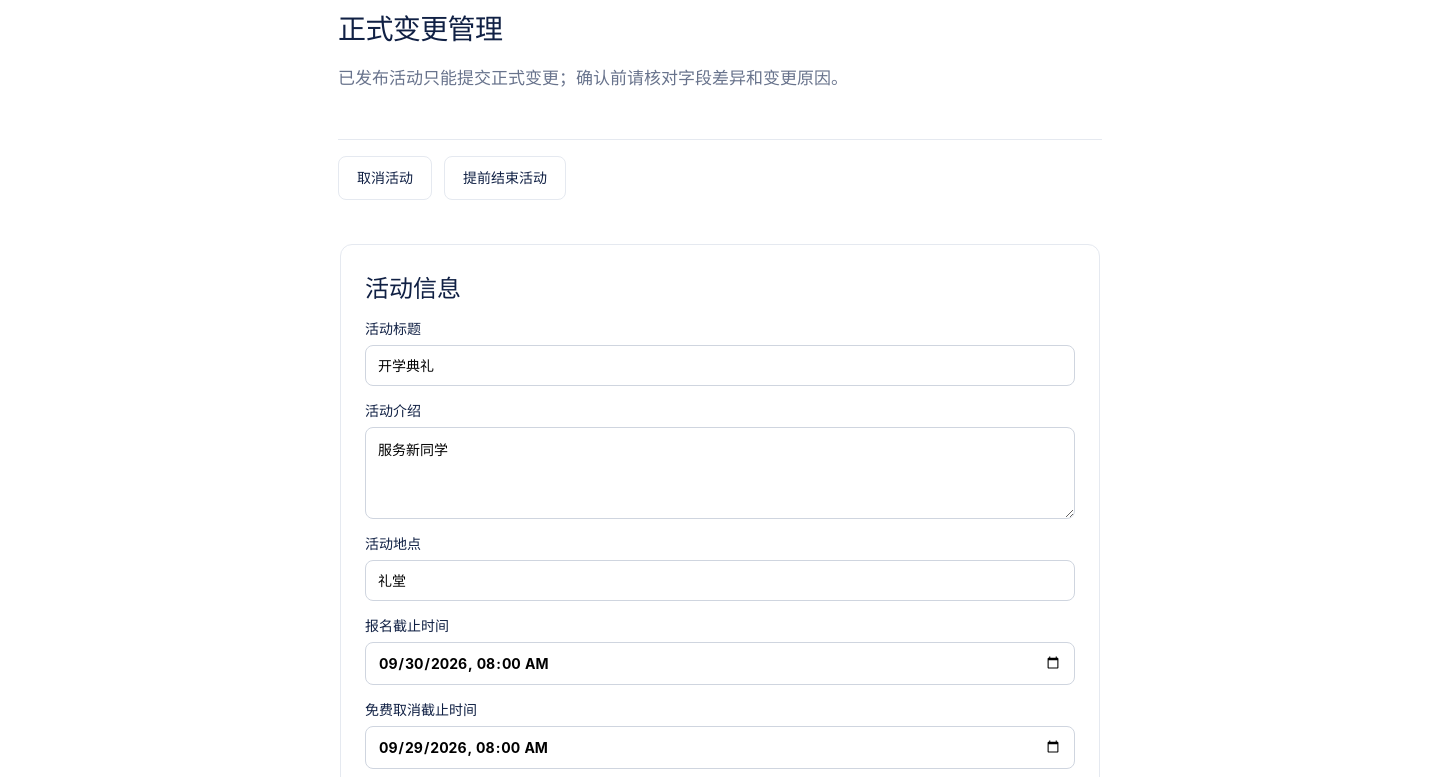
PublishedActivityManagementView › summarizes only actually changed allowed activity fields
Replace the text in the field with test id "activity-title" with "迎新典礼". click: (720, 365)
box: [365,345,1075,386]
(page scrolled)
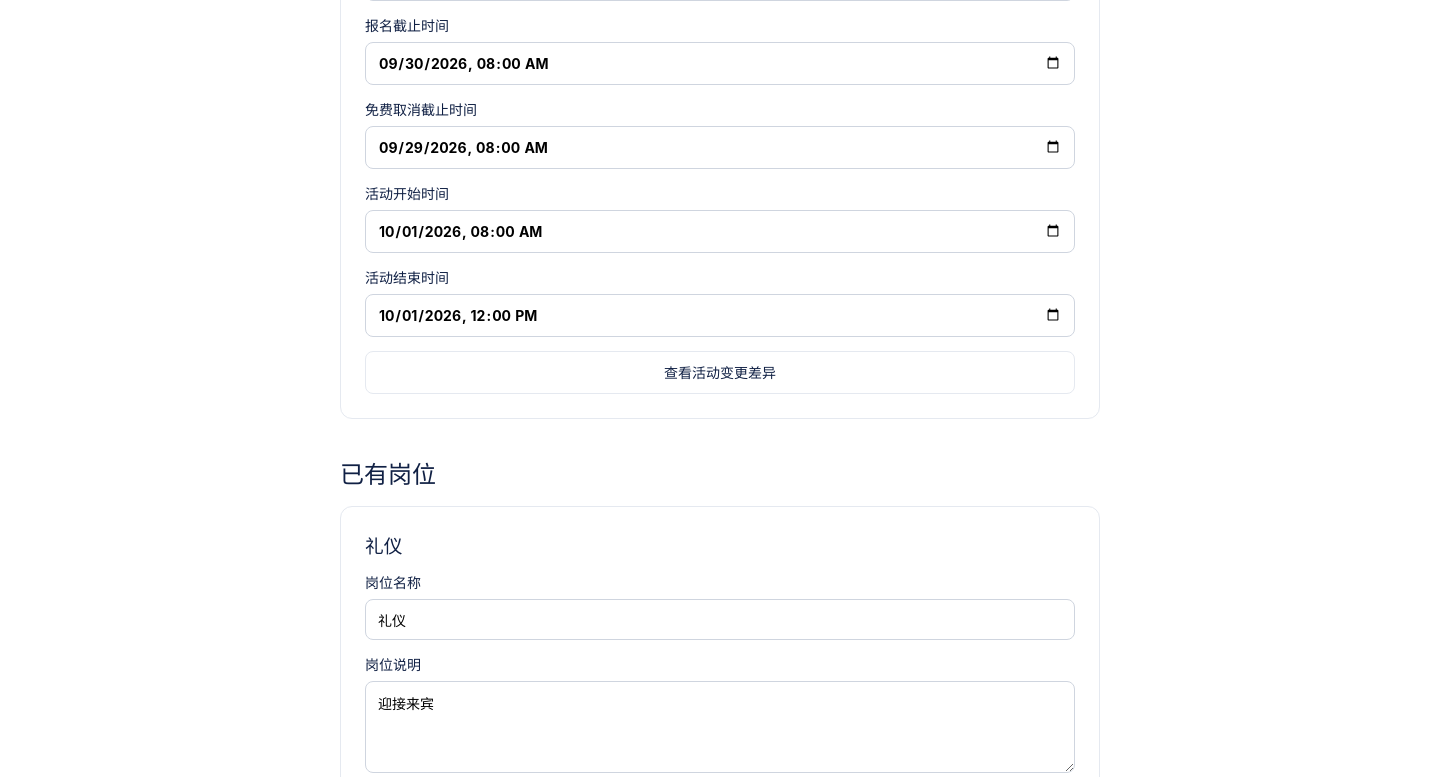
Click the button with test id "review-activity-change". click: (720, 372)
box: [365,351,1075,394]
(page scrolled)
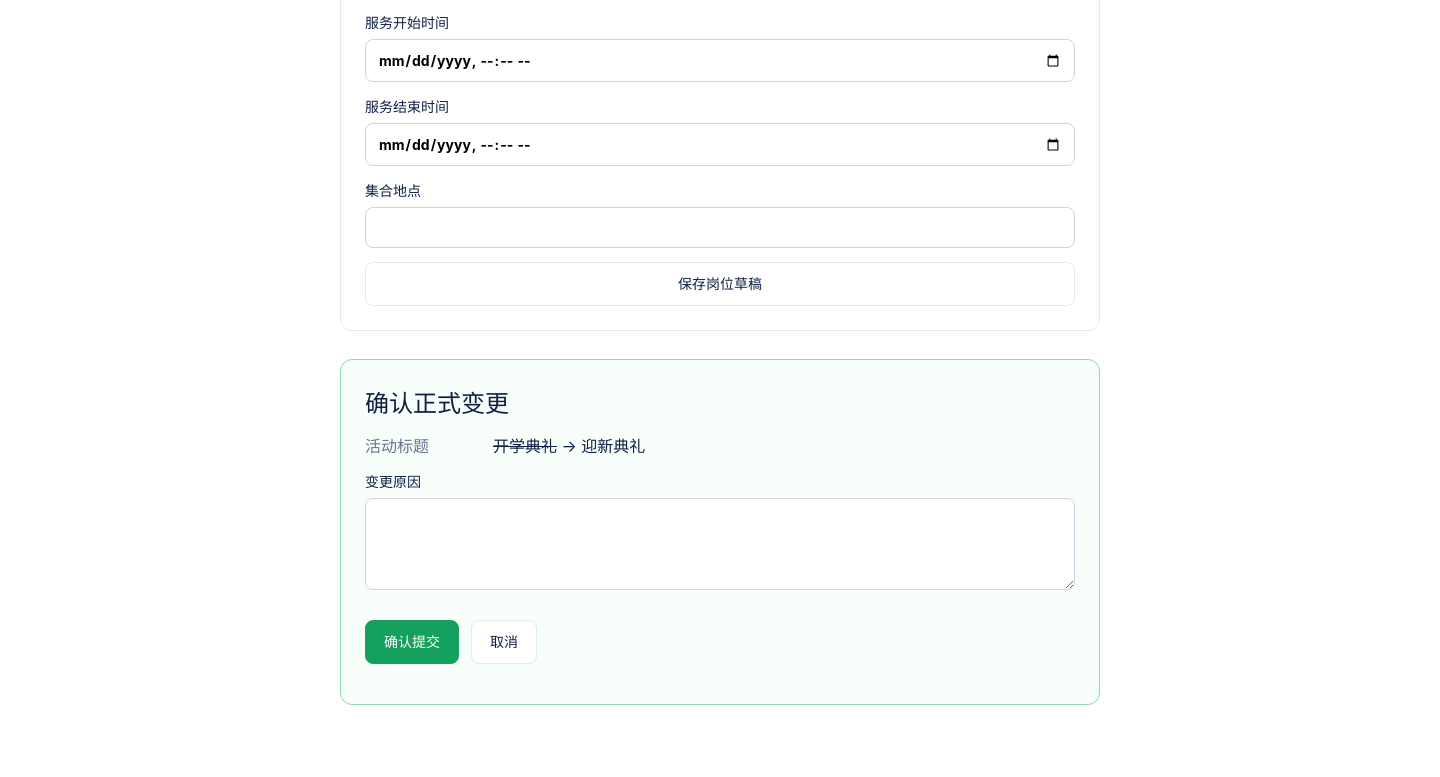
Now the element with test id "change-summary" shows "活动标题", box [365,436,429,456]
Now the element with test id "change-summary" shows "开学典礼", box [493,436,557,456]
Now the element with test id "change-summary" shows "迎新典礼", box [557,436,645,456]
